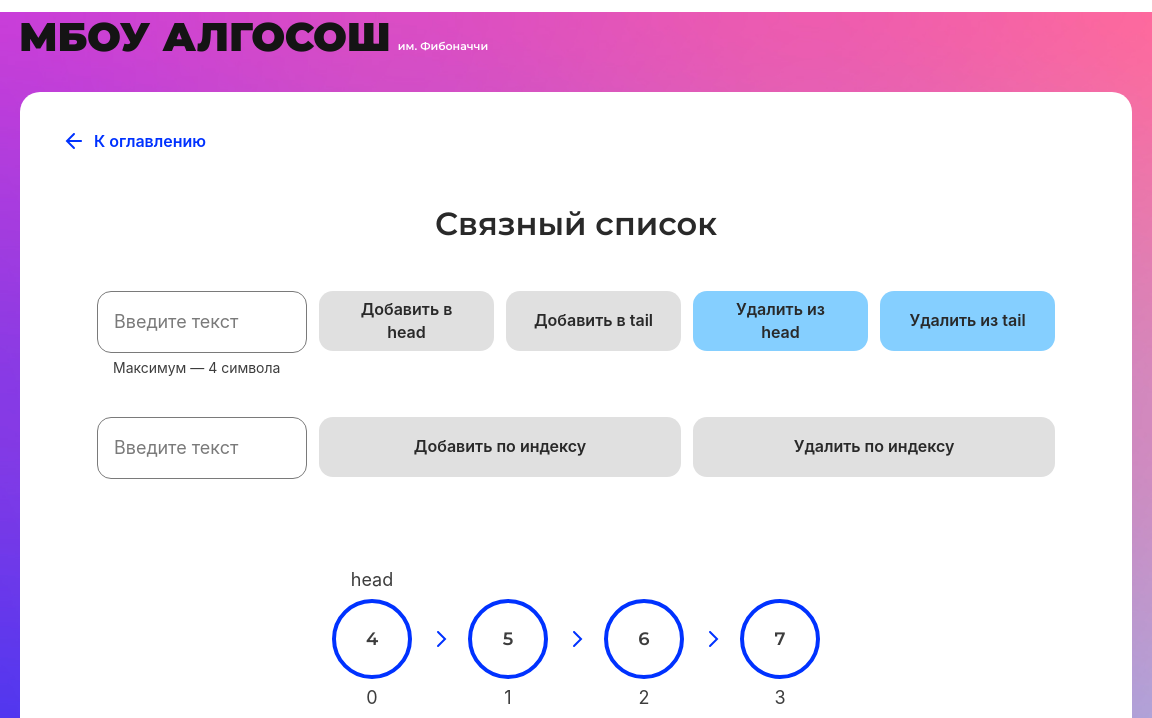
Test: list works right › removing element from head
The width and height of the screenshot is (1152, 718).
Expected: the number of elements with test id "listCircle" is 4, [332,599,452,679]; [468,599,588,679]; [604,599,724,679]; [740,599,820,679]
Step 1. Click the button with test id "delButton" showing "Удалить из head" → x=781, y=321, box [693,291,868,351]
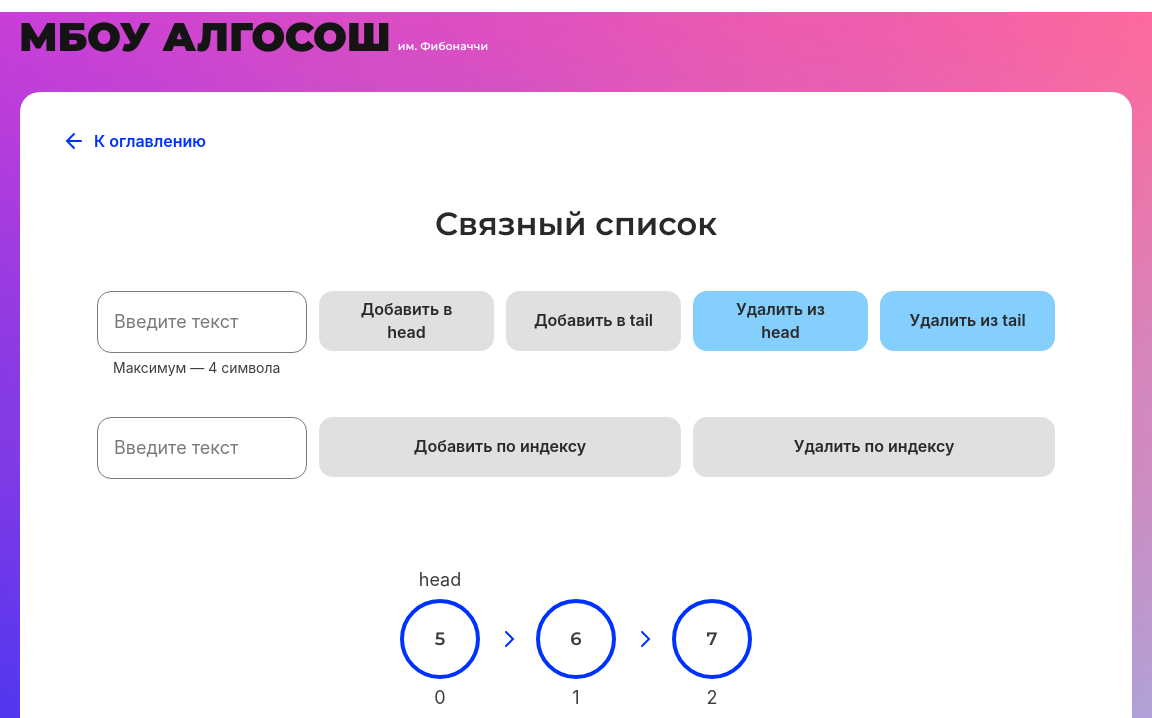
Expected: the text with test id "circleInsides" reads "5", [435,628,446,650]
Expected: the number of elements with test id "listCircle" is 3, [400,599,520,679]; [536,599,656,679]; [672,599,752,679]
